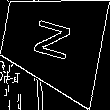N_W: (29, 16, 76, 66)
